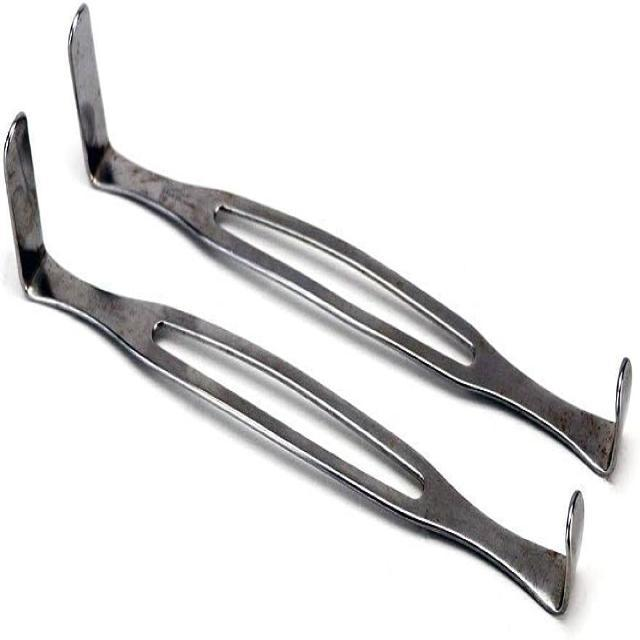Army Navy Retractor: (1, 96, 585, 622), (60, 0, 636, 489)
